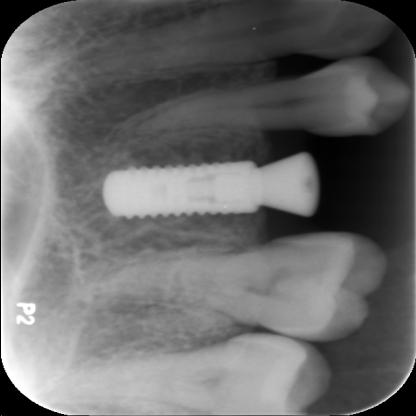ITI: (101, 162, 264, 221)
